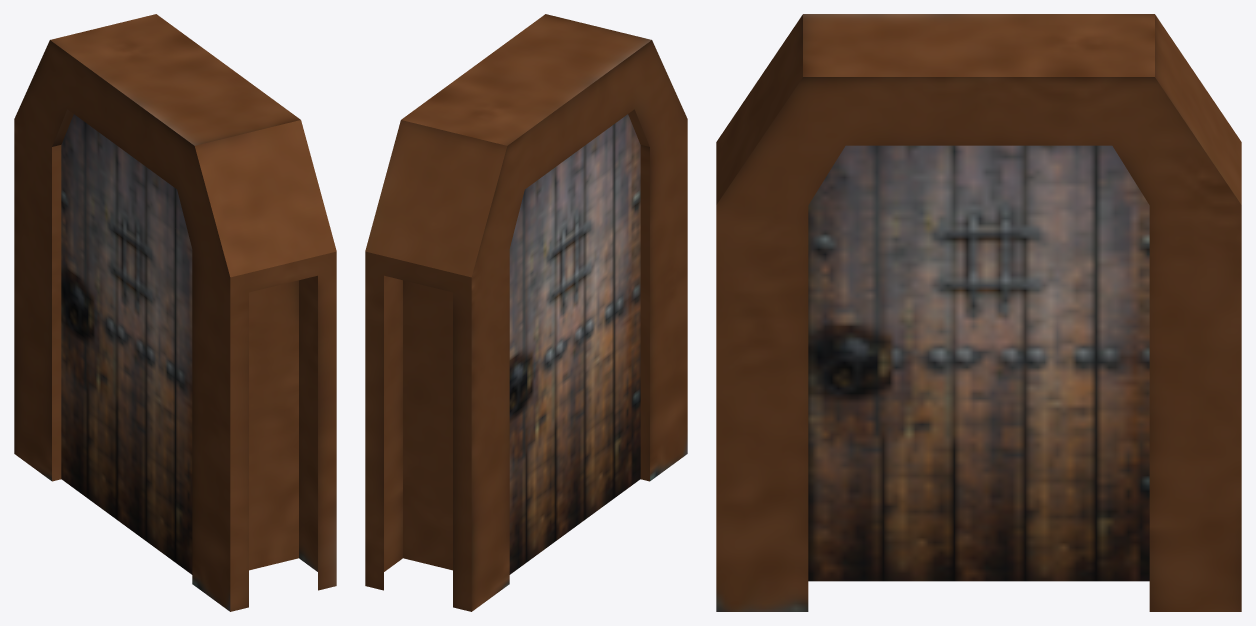
Rendered from Door.fbx.
3 views of the same model, side by side, from view 1: azimuth 30°, elevation 25°; view 2: azimuth 150°, elevation 25°; view 3: azimuth 270°, elevation 25° (orthographic). The views are drawn at different scales.
Parts seen in each view (by area): view 1: WDoor, DR; view 2: WDoor, DR; view 3: DR, WDoor.
Part boxes in pixels (x1,y1,x2,y2): WDoor: (14, 14, 336, 611); DR: (61, 114, 192, 574); WDoor: (365, 14, 687, 611); DR: (509, 114, 640, 574); DR: (808, 145, 1149, 581); WDoor: (716, 14, 1241, 611).
Size of the model in its own units: 66.6 by 263 by 234.
Materials: 1 (1 with a texture image).
